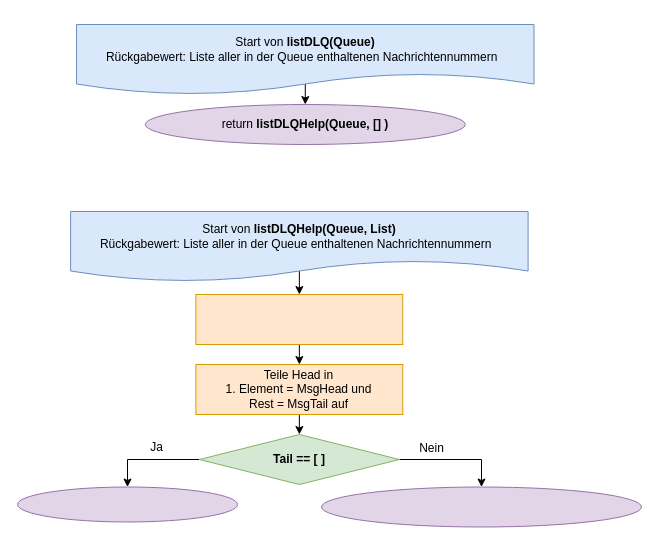
This 659x545 diagram has some shape labels left out. The centre of each missing label's shape, as x and y in pixels:
"return [List | MsgHead]" belongs at [127,504].
"return listDLQHelp(Tail, [List | MsgHead] )" belongs at [481,506].
"Teile Queue in 1. Element = Head und Rest = Tail auf" belongs at [299,319].
